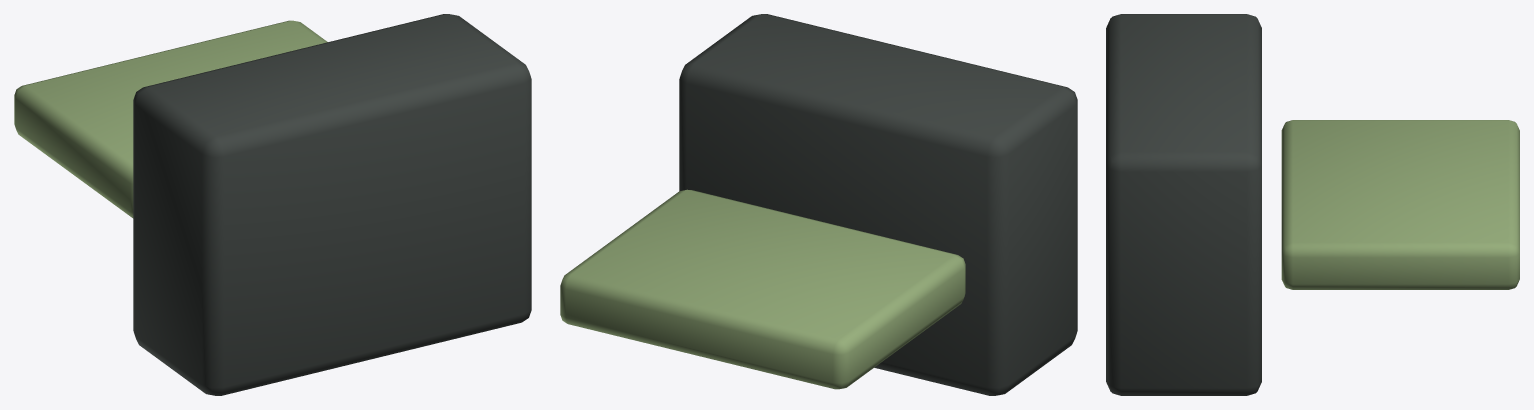
The model's file is equipment_cash_register.glb.
The picture shows the model from 3 angles, left to right: view 1: azimuth 30°, elevation 25°; view 2: azimuth 150°, elevation 25°; view 3: azimuth 270°, elevation 25°; orthographic projection. The views are drawn at different scales.
Parts seen in each view (by area): view 1: Drawer, Screen; view 2: Drawer, Screen; view 3: Drawer, Screen.
Boxes of the visible parts, x1,y1,x2,y2 form: Drawer: (133,14,531,395); Screen: (14,20,327,218); Drawer: (679,14,1077,395); Screen: (560,189,965,389); Drawer: (1106,14,1261,395); Screen: (1281,120,1519,289).
Size of the model in its own units: 0.82 by 0.62 by 0.955.
